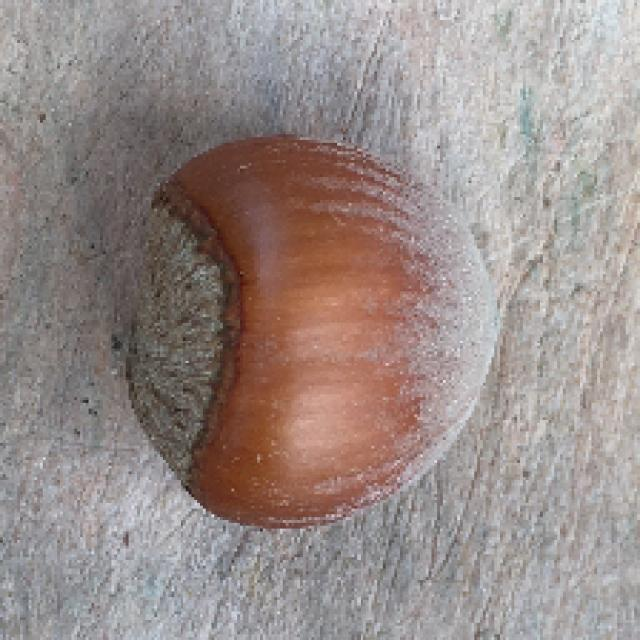QualityHazelnut: (127, 136, 506, 535)
